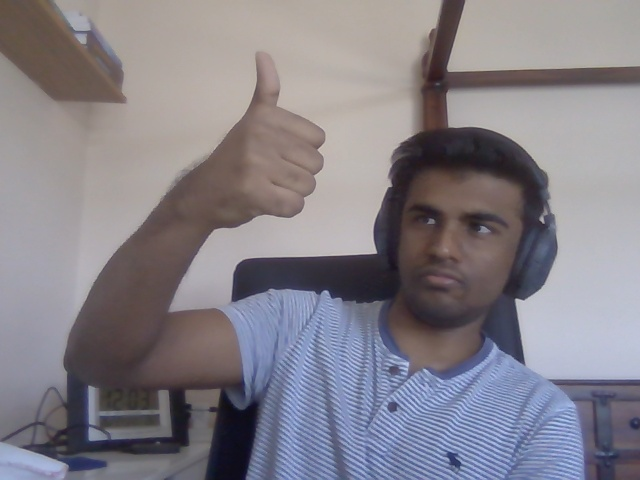Yes: (205, 50, 328, 226)
